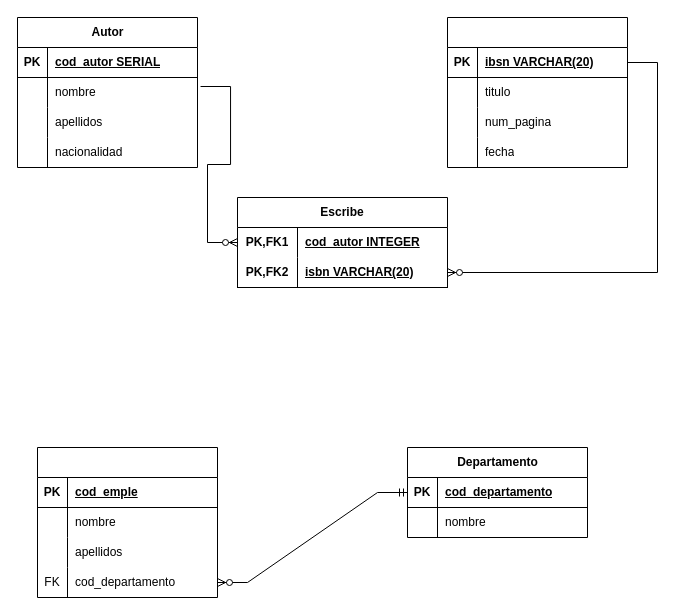
Image size: 683x615. Some labels were removed from this diagram. The box of each missing label's shape, as (x1, y1, x2, y2) in pixels:
Empleado: (36, 446, 218, 598)
Libro: (446, 16, 628, 168)
